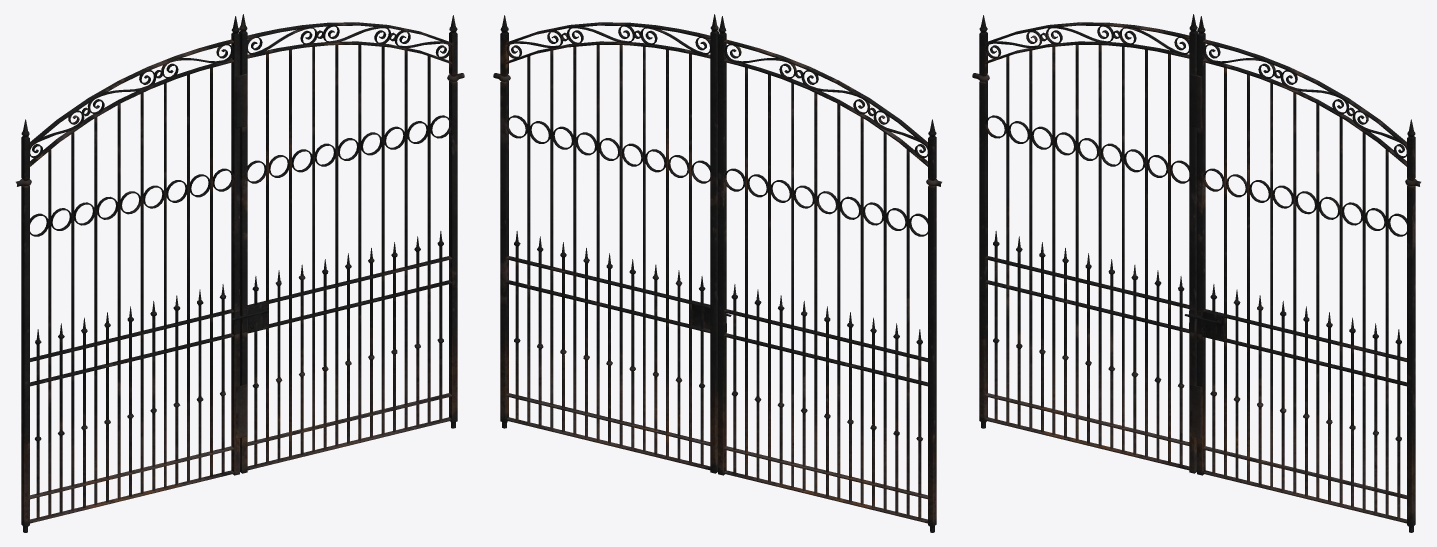
The model's file is ph2_large_iron_gate.glb.
3 renders of one model, left to right at view 1: azimuth 30°, elevation 25°; view 2: azimuth 150°, elevation 25°; view 3: azimuth 330°, elevation 25°, orthographic.
Bounding box in the file's own units: 2.95 × 2.93 × 0.0962.
Materials: 1 (1 with a texture image).
